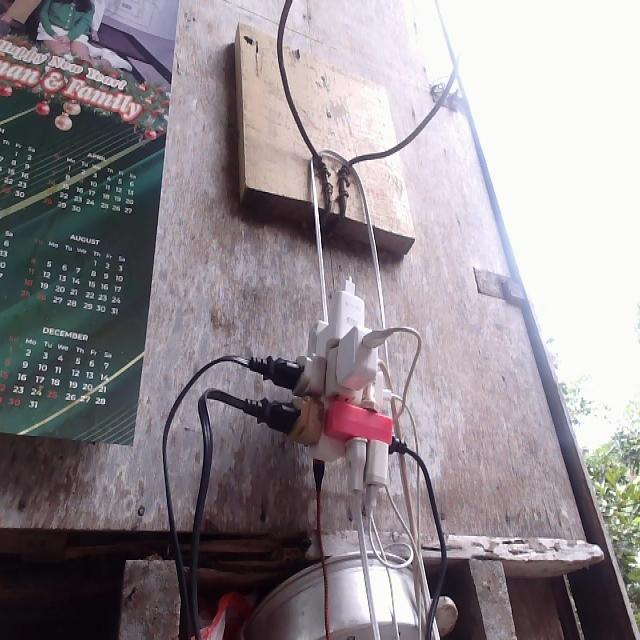-: (270, 273, 410, 504)
